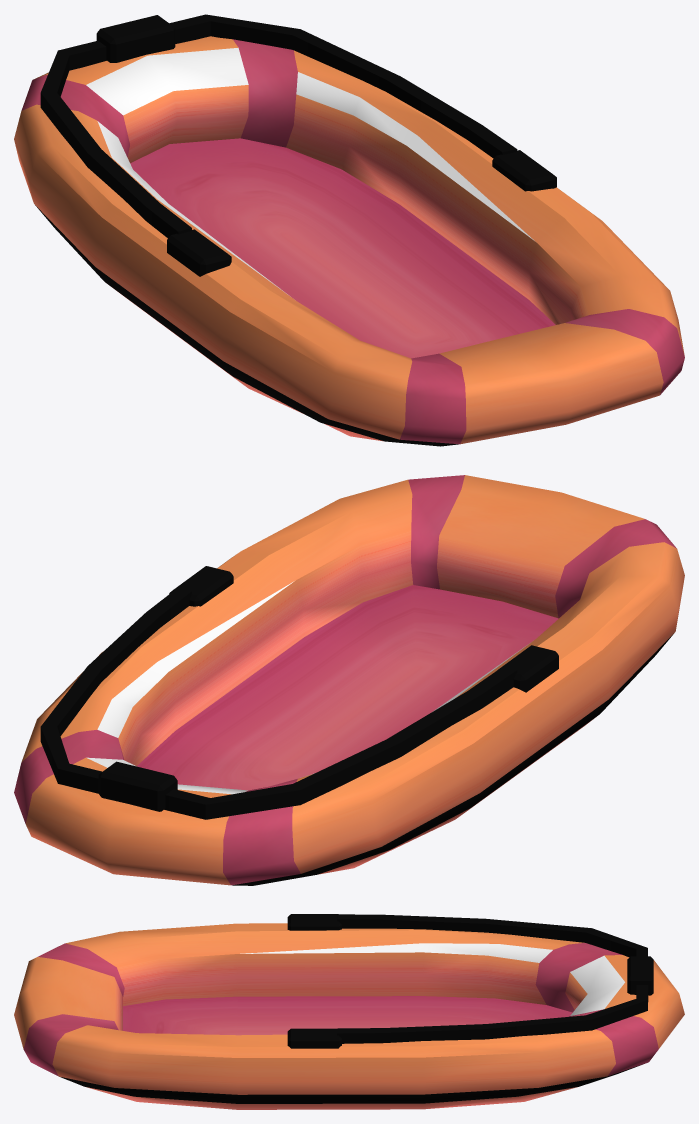
Rendered from Dingy_Model.fbx.
3 renders of one model, top to bottom at view 1: azimuth 30°, elevation 25°; view 2: azimuth 150°, elevation 25°; view 3: azimuth 270°, elevation 25°, orthographic. The views are drawn at different scales.
Visible parts, largest first — view 1: Dingy_Test; view 2: Dingy_Test; view 3: Dingy_Test.
Boxes of the visible parts, x1,y1,x2,y2 form: Dingy_Test: [14, 14, 684, 446]; Dingy_Test: [14, 475, 684, 885]; Dingy_Test: [14, 914, 684, 1109].
Bounding box in the file's own units: 411 × 136 × 860.
